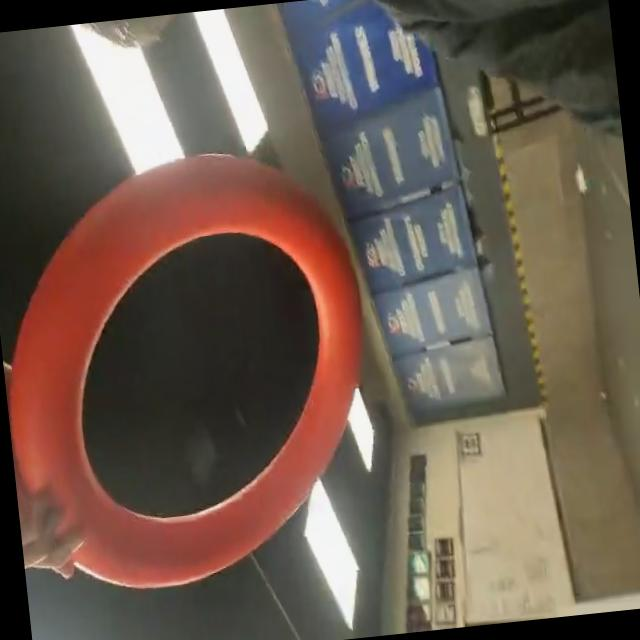note: (0, 128, 401, 611)
